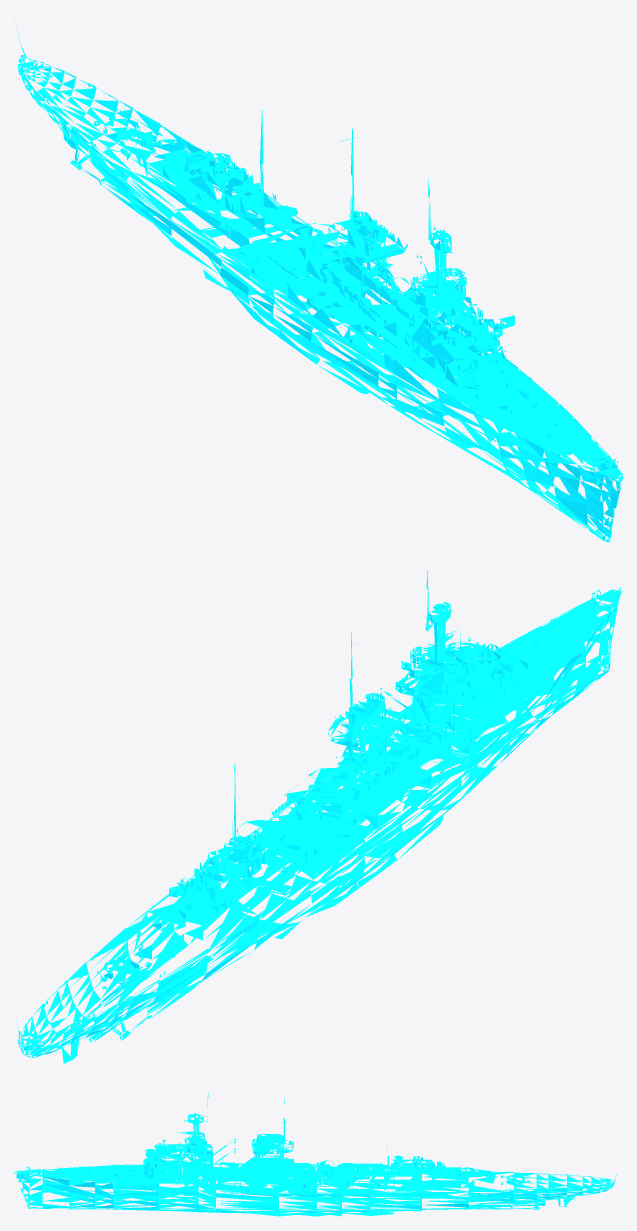
File: Nurnberg.glb
3 renders of one model, top to bottom at view 1: azimuth 30°, elevation 25°; view 2: azimuth 150°, elevation 25°; view 3: azimuth 270°, elevation 25°, orthographic. The views are drawn at different scales.
Bounding box in the file's own units: 1.14 × 2.58 × 12.25.
